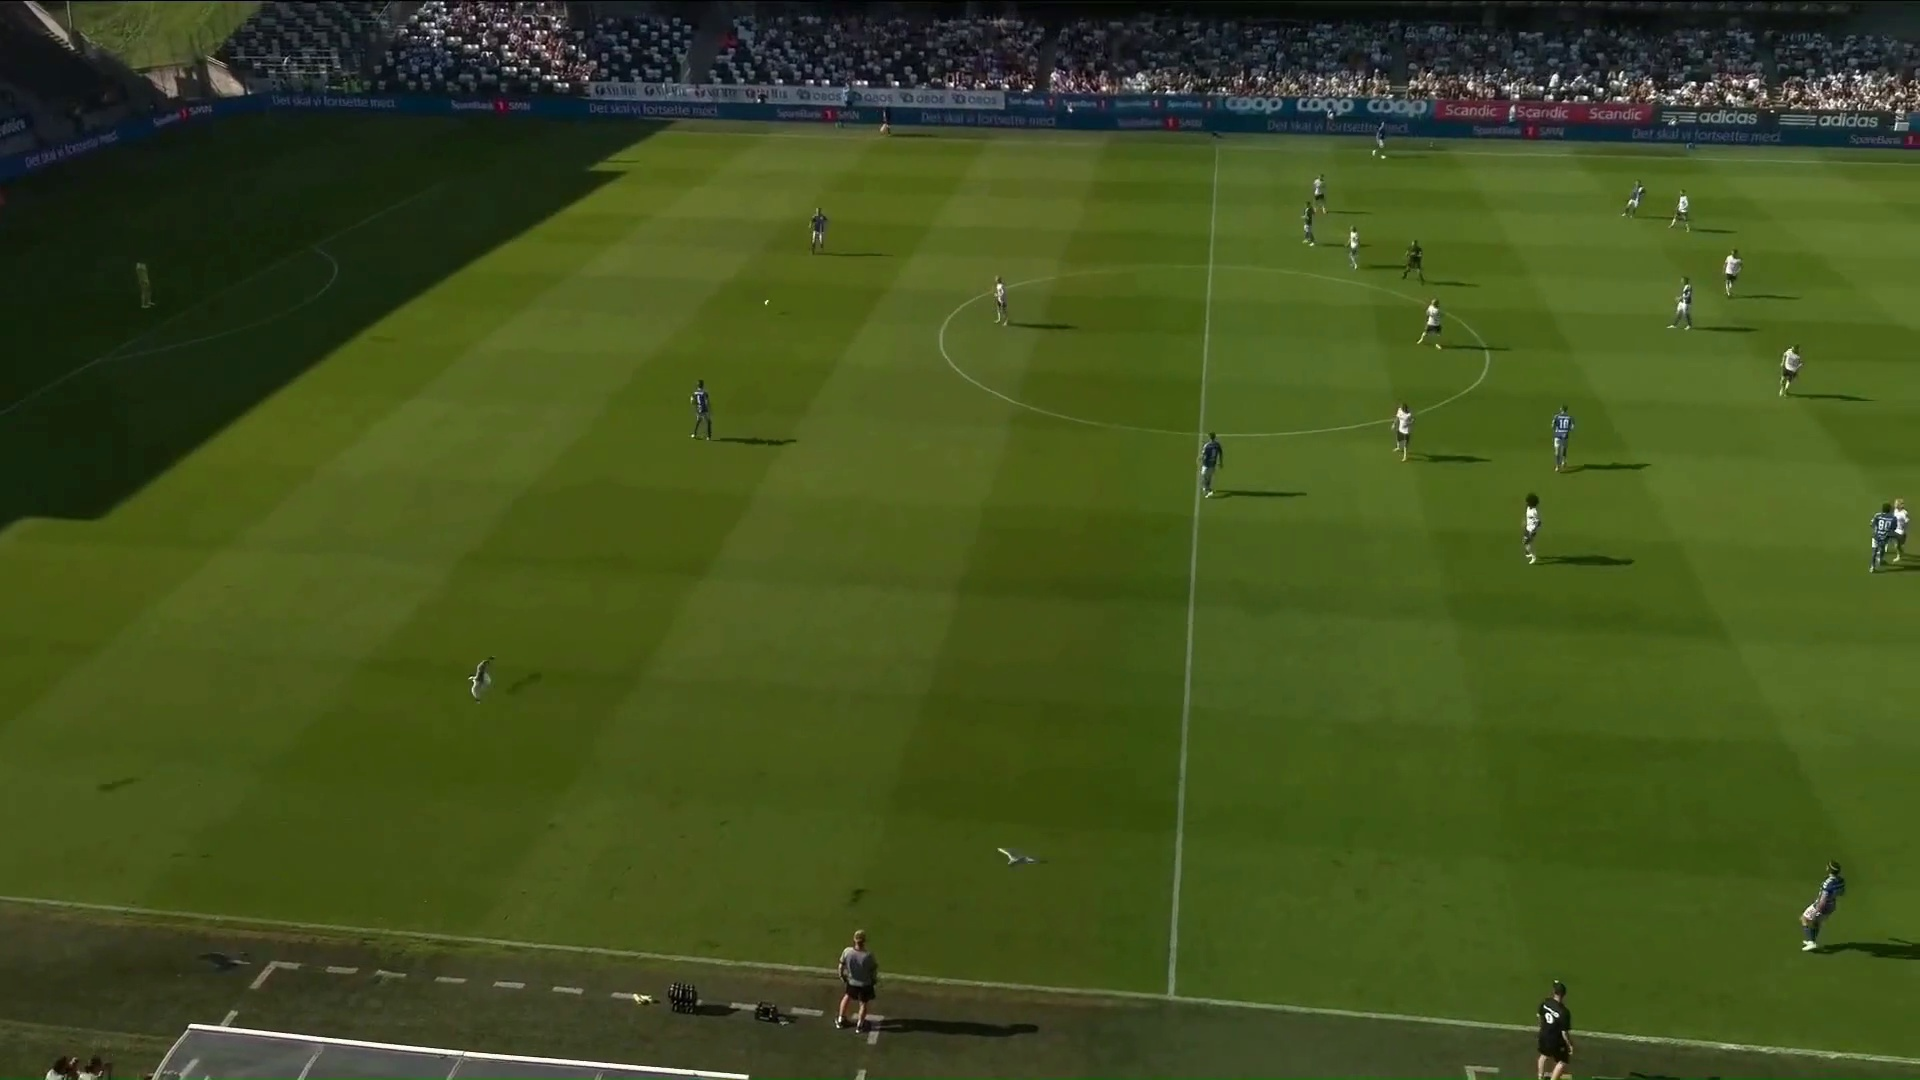ball: (763, 299, 770, 306)
player: (1799, 859, 1846, 952), (1868, 500, 1893, 572), (1551, 403, 1575, 473), (1199, 431, 1223, 499), (689, 378, 713, 441), (1888, 497, 1910, 565), (1667, 275, 1693, 331), (1416, 297, 1444, 349), (1391, 402, 1415, 462), (1778, 343, 1804, 397), (1523, 492, 1542, 564), (1401, 239, 1426, 284), (1667, 188, 1691, 232), (135, 260, 157, 308), (1723, 247, 1743, 298), (1621, 179, 1646, 219), (809, 207, 829, 254), (992, 275, 1009, 326), (1300, 201, 1317, 246), (1345, 225, 1361, 270), (1313, 173, 1328, 215), (1373, 120, 1387, 157), (877, 103, 892, 135)
